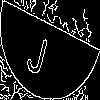J: (25, 25, 52, 77)
